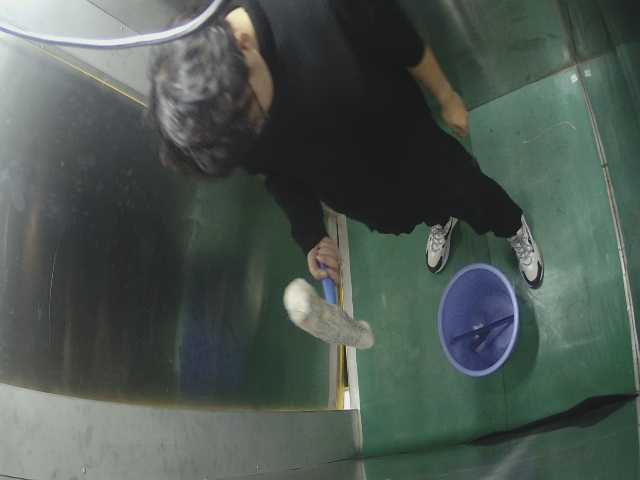bucket: (433, 257, 527, 385)
person: (146, 2, 560, 288)
